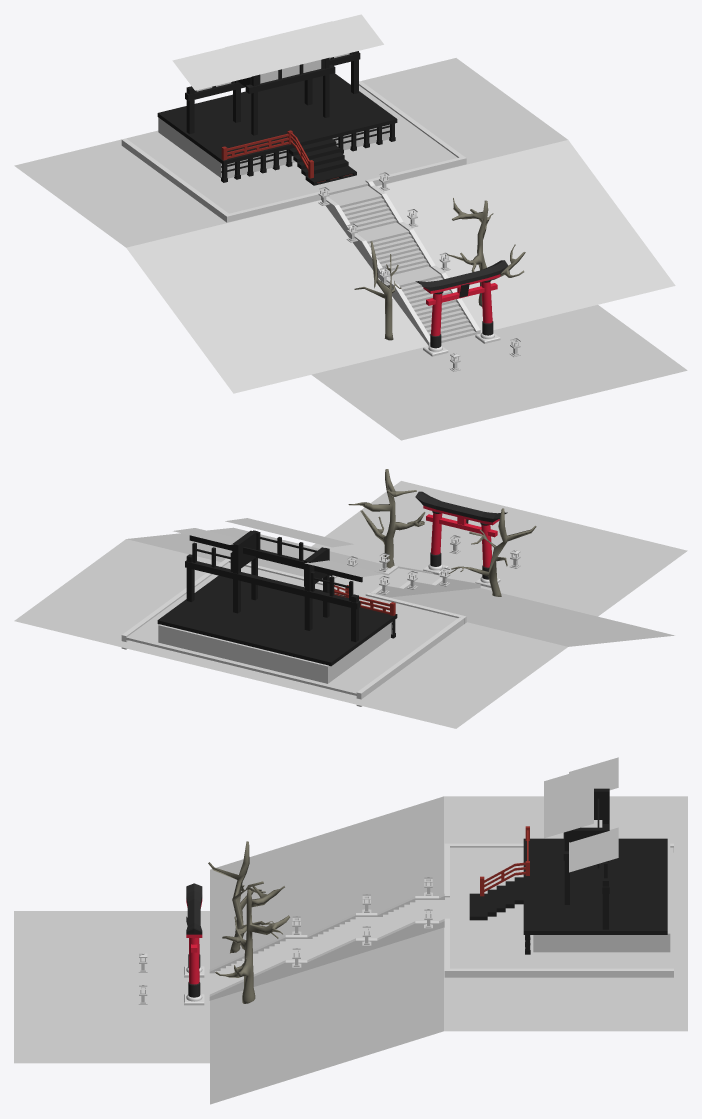
The model's file is japaneseshrine_20210515.glb.
The picture shows the model from 3 angles, top to bottom: view 1: azimuth 30°, elevation 25°; view 2: azimuth 150°, elevation 25°; view 3: azimuth 270°, elevation 25°; orthographic projection. The views are drawn at different scales.
Parts seen in each view (by area): view 1: 平面, 平面.001, 立方体.018, 立方体.003, 立方体.004, 平面.005, 立方体.005, 立方体, 立方体.001, 平面.007, 立方体.002, 立方体.017 (+7 smaller); view 2: 平面, 平面.001, 立方体.018, 立方体.003, 立方体.020, 立方体.004, 立方体.005, 立方体.045, 立方体.017, 立方体.016, 平面.005, 立方体.046 (+5 smaller); view 3: 平面, 平面.001, 立方体.018, 立方体.003, 立方体.004, 平面.005, 立方体.020, 立方体.017, 立方体.005, 立方体, 平面.006, 立方体.001 (+3 smaller).
Part boxes in pixels (x1,y1,x2,y2): 平面: (14,58,675,393); 平面.001: (311,305,687,440); 立方体.018: (157,73,397,185); 立方体.003: (128,85,457,213); 立方体.004: (121,81,480,345); 平面.005: (224,21,354,77); 立方体.005: (415,260,508,356); 立方体: (388,266,476,342); 立方体.001: (356,222,428,275); 平面.007: (172,48,251,90); 立方体.002: (328,186,396,231); 立方体.017: (447,198,525,306); 平面: (14,527,674,728); 平面.001: (311,481,687,616); 立方体.018: (157,575,397,666); 立方体.003: (126,562,457,695); 立方体.020: (158,623,390,683); 立方体.004: (121,558,480,706); 立方体.005: (415,491,507,587); 立方体.045: (185,560,360,609); 立方体.017: (348,469,425,568); 立方体.016: (448,508,536,596); 平面.005: (225,518,353,547); 立方体.046: (189,535,362,582); 平面: (210,796,687,1104); 平面.001: (14,911,209,1063); 立方体.018: (469,838,667,934); 立方体.003: (445,847,673,968); 立方体.004: (209,843,673,1000); 平面.005: (544,766,593,838); 立方体.020: (533,843,670,952); 立方体.017: (215,885,289,1003); 立方体.005: (184,883,204,1005); 立方体: (209,939,312,994); 平面.006: (569,827,618,872); 立方体.001: (312,917,382,957).
Bounding box in the file's own units: 61.67 × 25.13 × 74.76.
